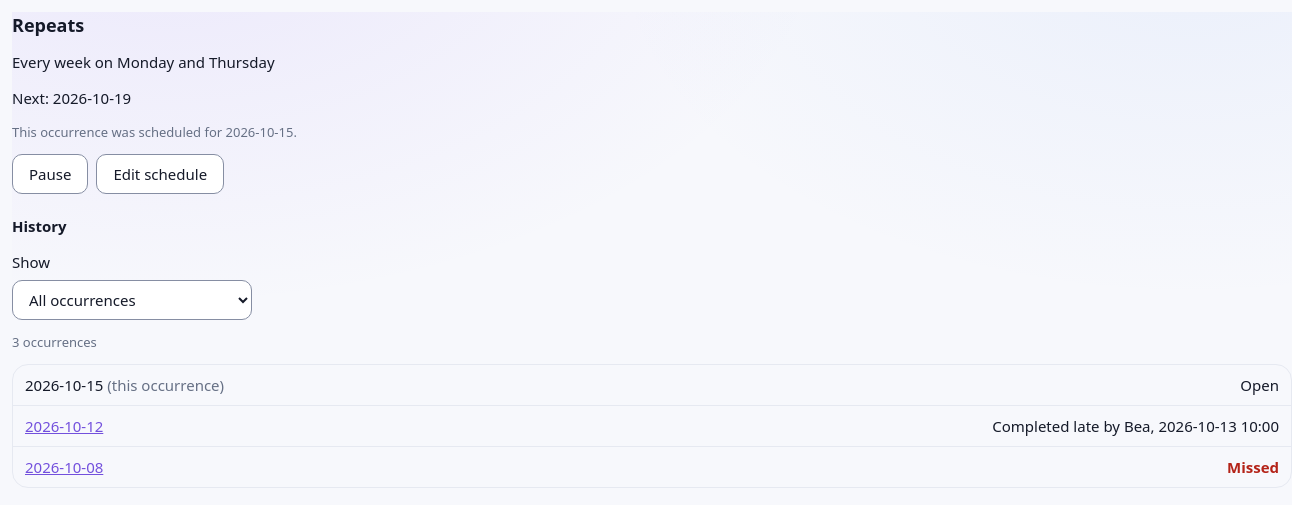
Test: TaskRepeats › filters the history by asking the server
Select "Missed" in the dropdown labelled "Show" at (132, 300), box [12,280,252,320]
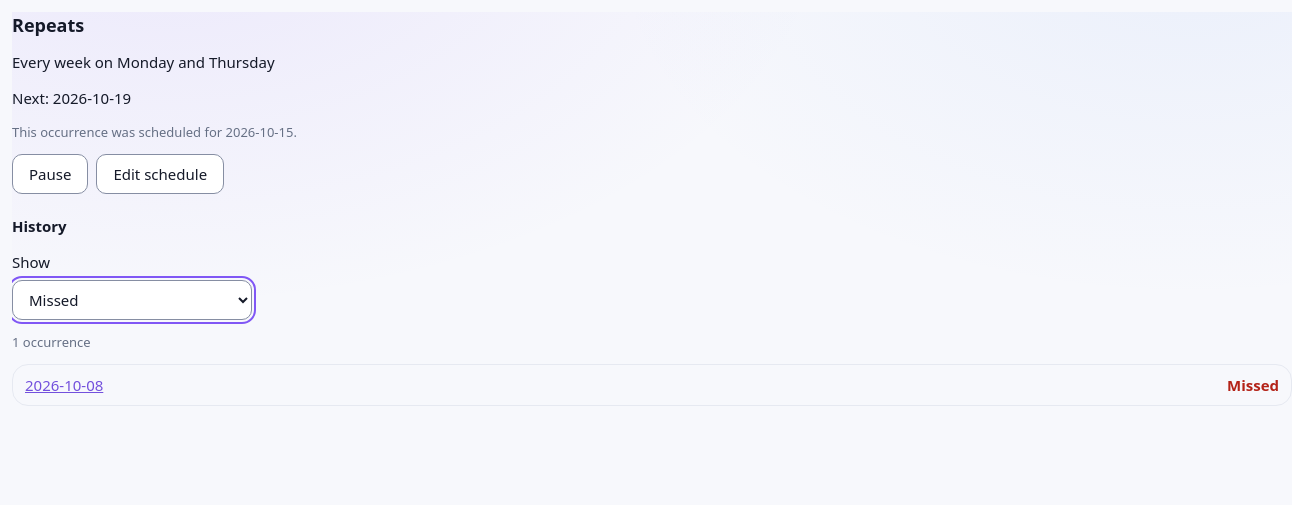
Check: the number of list items is 1, box [25,375,1279,395]
